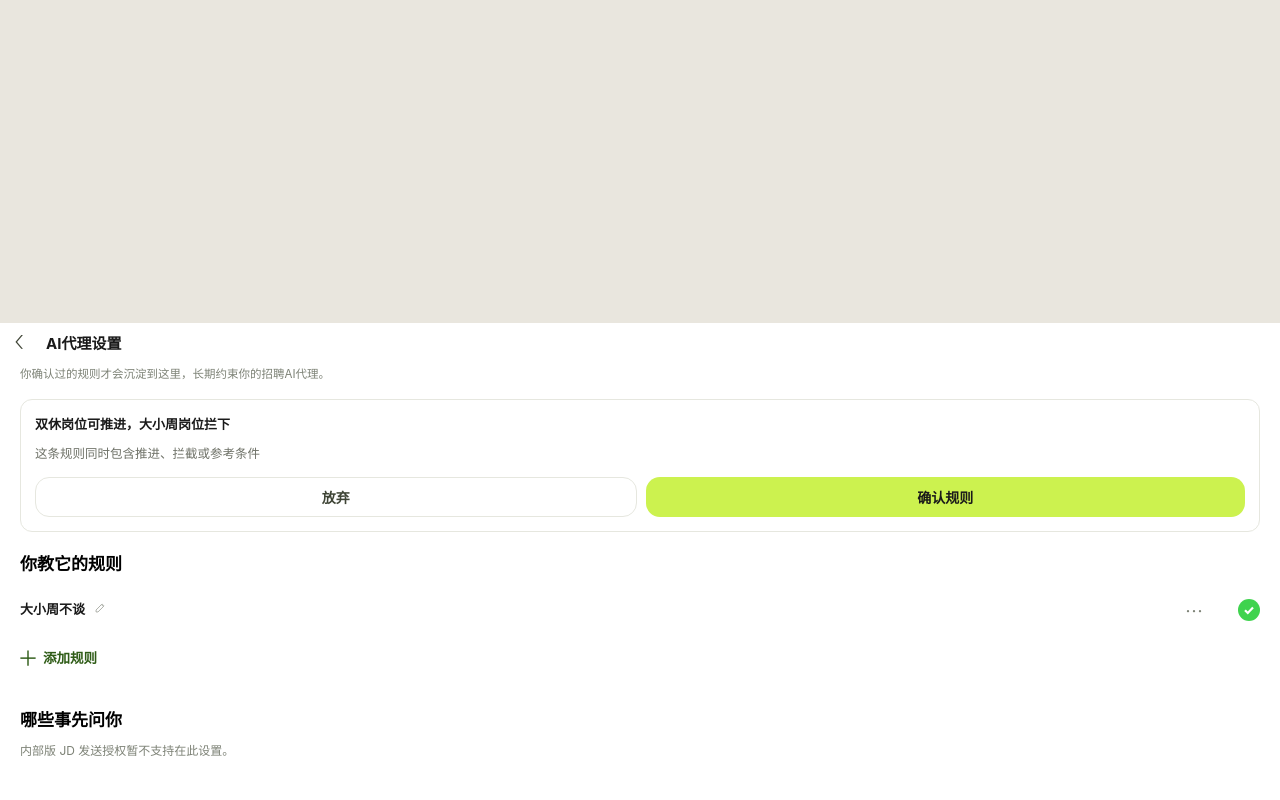
it: 企业代理设置 · Backend 招聘方页 › ready Proposal accepts through the operation and the card closes
(page scrolled)
卡片由真实挂载水合落屏（不走路过镜头）
Click the button "确认规则".
click(945, 497)  # box [646, 477, 1245, 517]
(page scrolled)
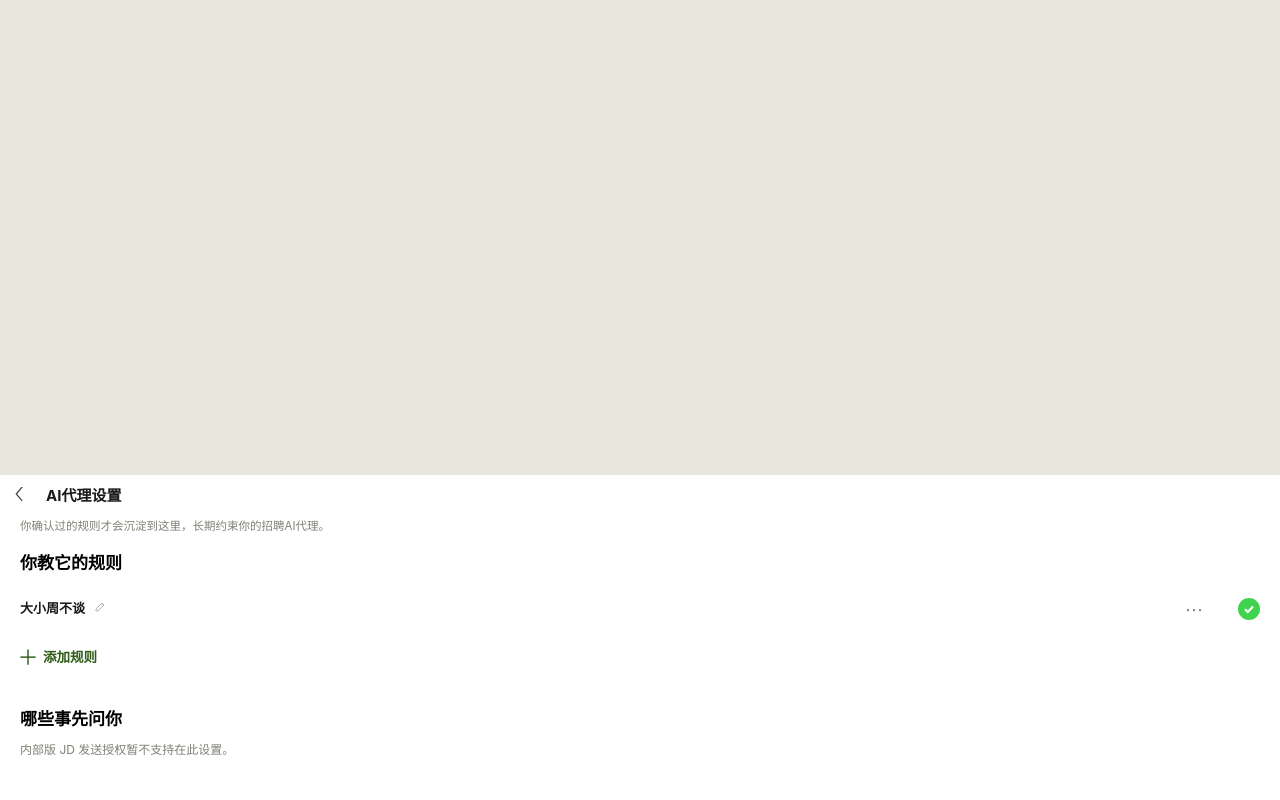
Now the button "确认规则" is gone
